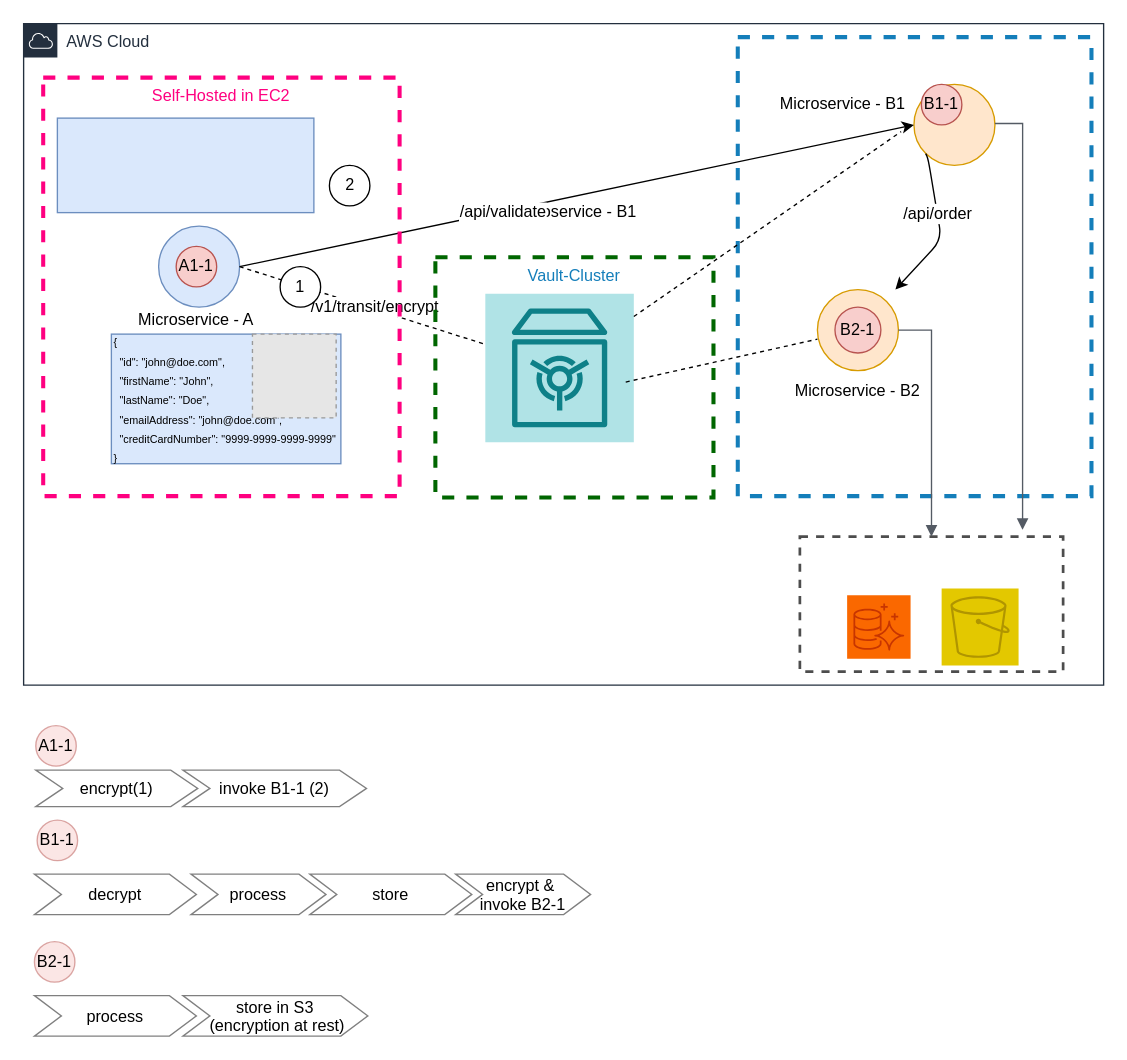
Image size: 1127x1060. Some labels were removed from this diagram. Grey dashed boxes stand in for pictures. Each missing label, with the box of its shape:
EKS Cluster: (735, 34, 1093, 497)
Managed Services - Aurora & S3: (798, 535, 1064, 672)
vault: (484, 292, 634, 442)
{ "data": { "ciphertext": "vault:v1:encryptedTextMessage=" } }: (56, 117, 314, 213)
